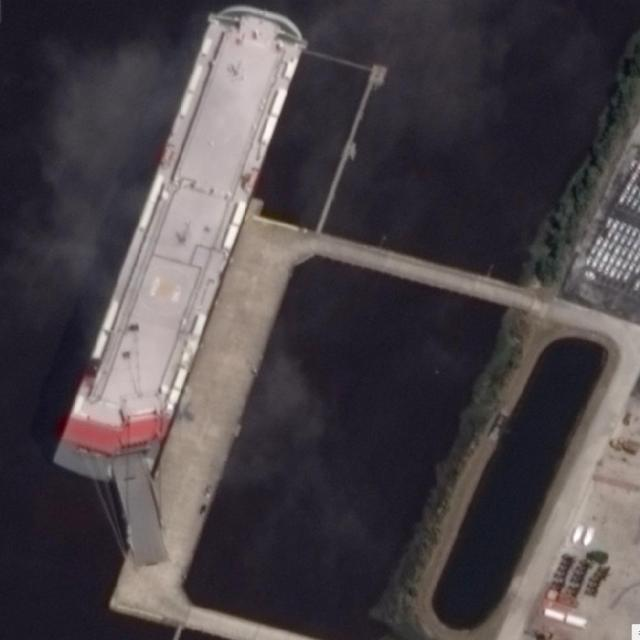RoRo: (50, 1, 314, 499)
